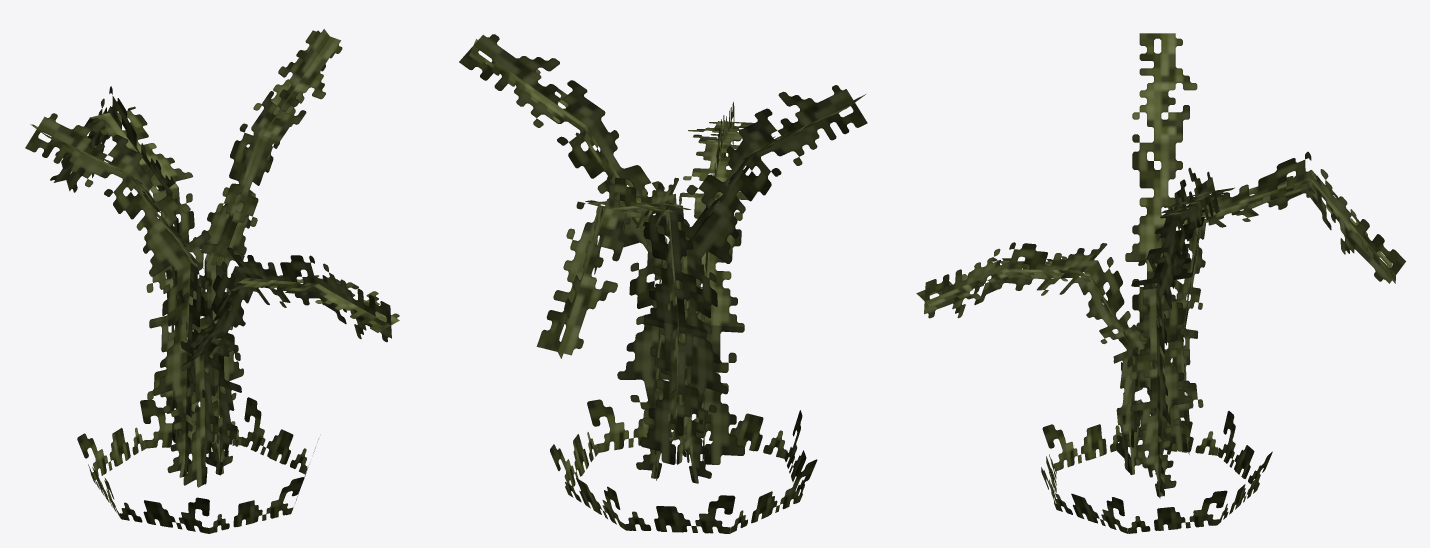
Rendered from ElectroFern1.fbx.
3 renders of one model, left to right at view 1: azimuth 30°, elevation 25°; view 2: azimuth 150°, elevation 25°; view 3: azimuth 270°, elevation 25°, orthographic. The views are drawn at different scales.
Visible parts, largest first — view 1: ElectroFern; view 2: ElectroFern; view 3: ElectroFern.
Part boxes in pixels (bbox=[...]): ElectroFern: bbox=[25, 29, 399, 533]; ElectroFern: bbox=[459, 34, 867, 533]; ElectroFern: bbox=[916, 33, 1405, 533].
Bounding box in the file's own units: 98.43 × 110 × 122.
